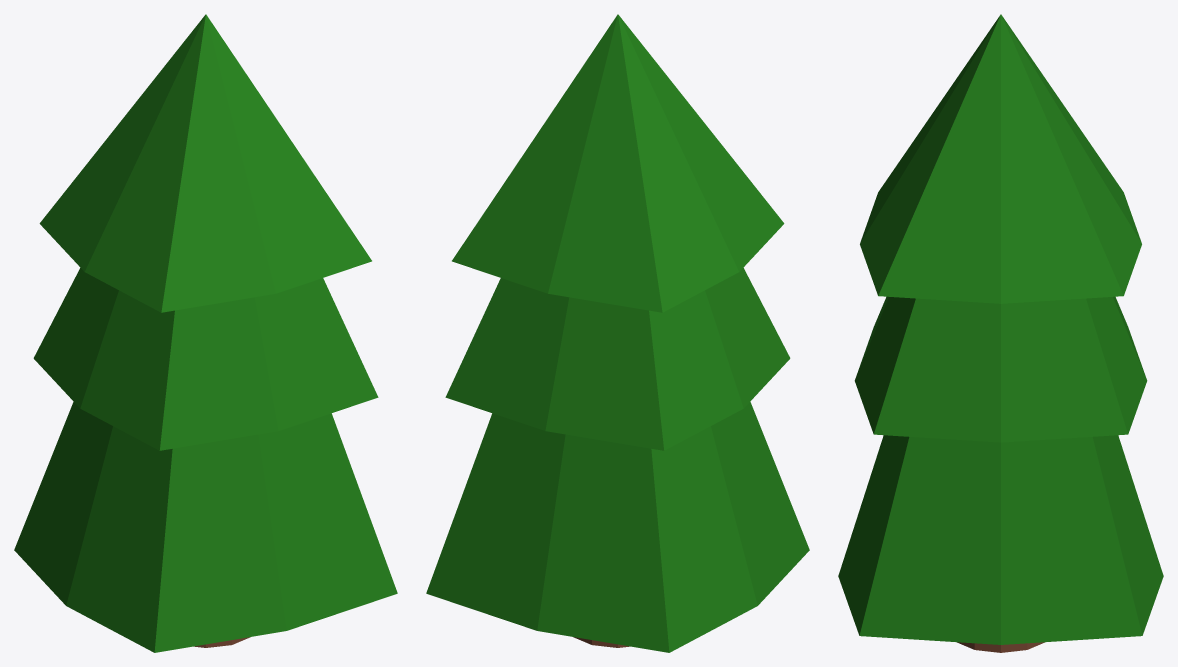
File: Tree_23_summer_mat.fbx
3 views of the same model, side by side, from view 1: azimuth 30°, elevation 25°; view 2: azimuth 150°, elevation 25°; view 3: azimuth 270°, elevation 25° (orthographic).
Parts seen in each view (by area): view 1: Tree_23_summer_mat; view 2: Tree_23_summer_mat; view 3: Tree_23_summer_mat.
Part boxes in pixels (<box>): Tree_23_summer_mat: <box>14,14,397,652</box>; Tree_23_summer_mat: <box>426,14,809,652</box>; Tree_23_summer_mat: <box>838,14,1163,652</box>.
Size of the model in its own units: 3.6 by 7.54 by 3.6.
